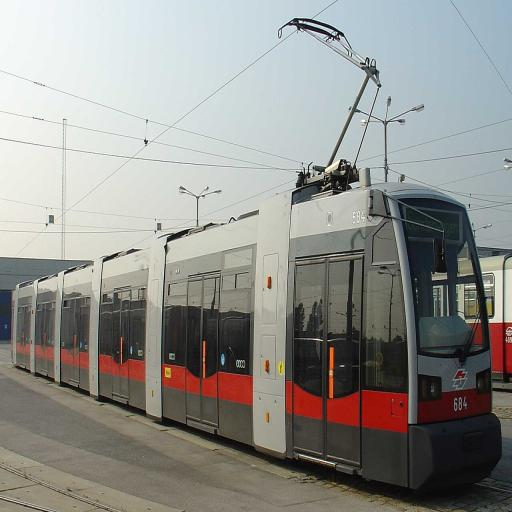ULF: (12, 175, 498, 494)
